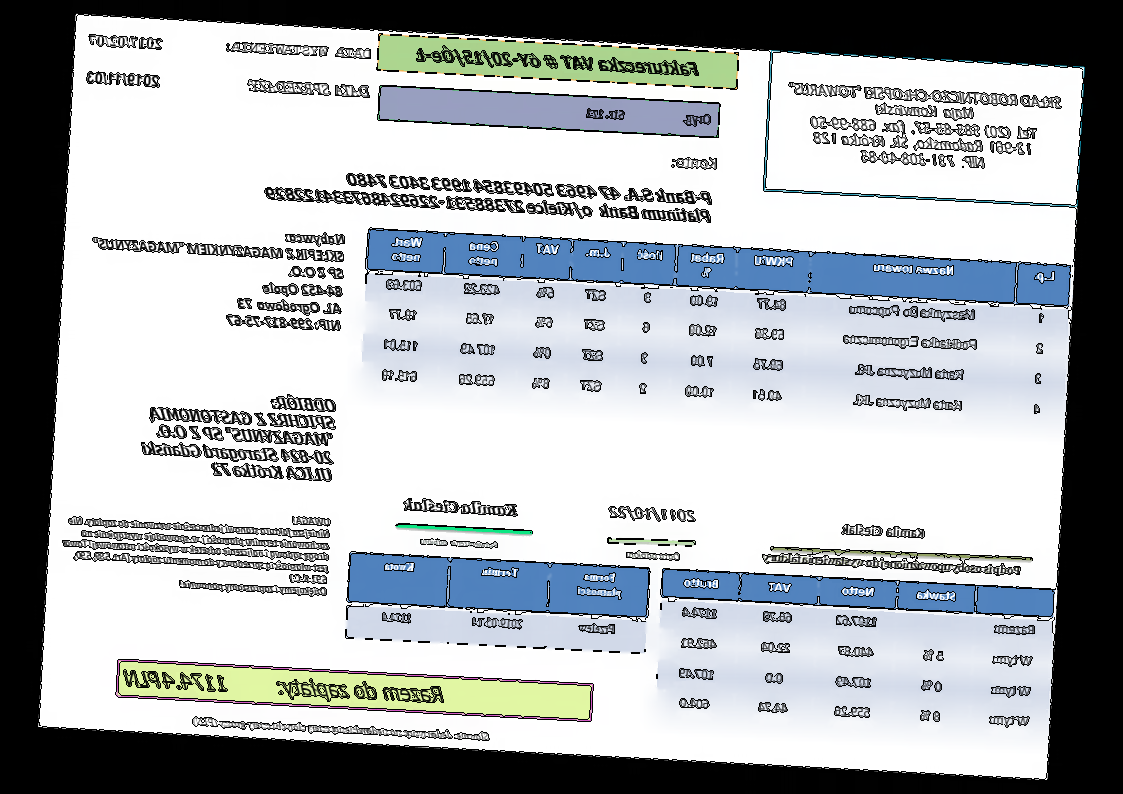Table: (359, 226, 1073, 430), (652, 567, 1056, 740), (345, 550, 651, 656)
TextBox: (86, 217, 348, 335), (264, 165, 715, 226), (56, 502, 333, 599), (783, 79, 1065, 174), (136, 387, 338, 484), (120, 663, 447, 708), (413, 43, 702, 82), (190, 712, 491, 745), (760, 548, 1025, 580), (223, 38, 376, 63), (584, 104, 714, 130), (244, 76, 372, 100), (400, 494, 520, 519), (607, 502, 698, 525), (86, 30, 165, 54), (84, 67, 163, 90), (840, 522, 927, 541), (419, 535, 500, 551), (670, 153, 721, 174), (625, 548, 683, 564)
